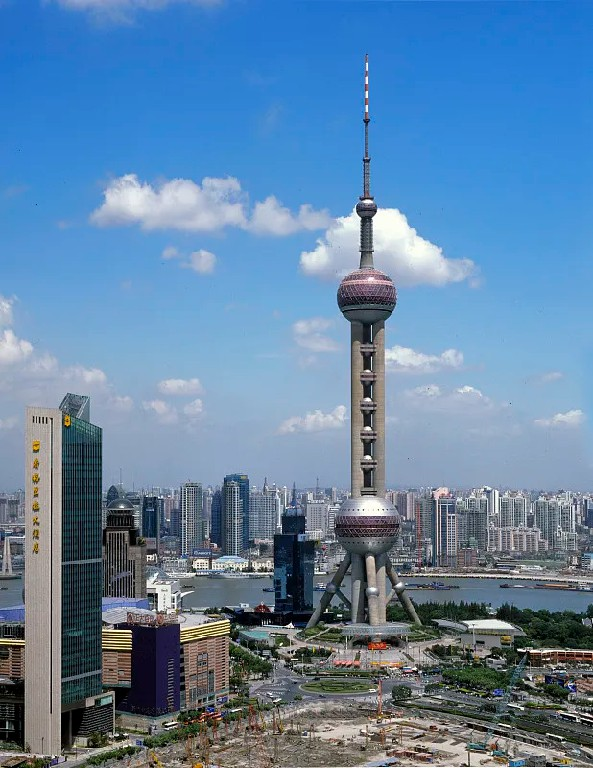Oriental: (308, 55, 421, 629)
